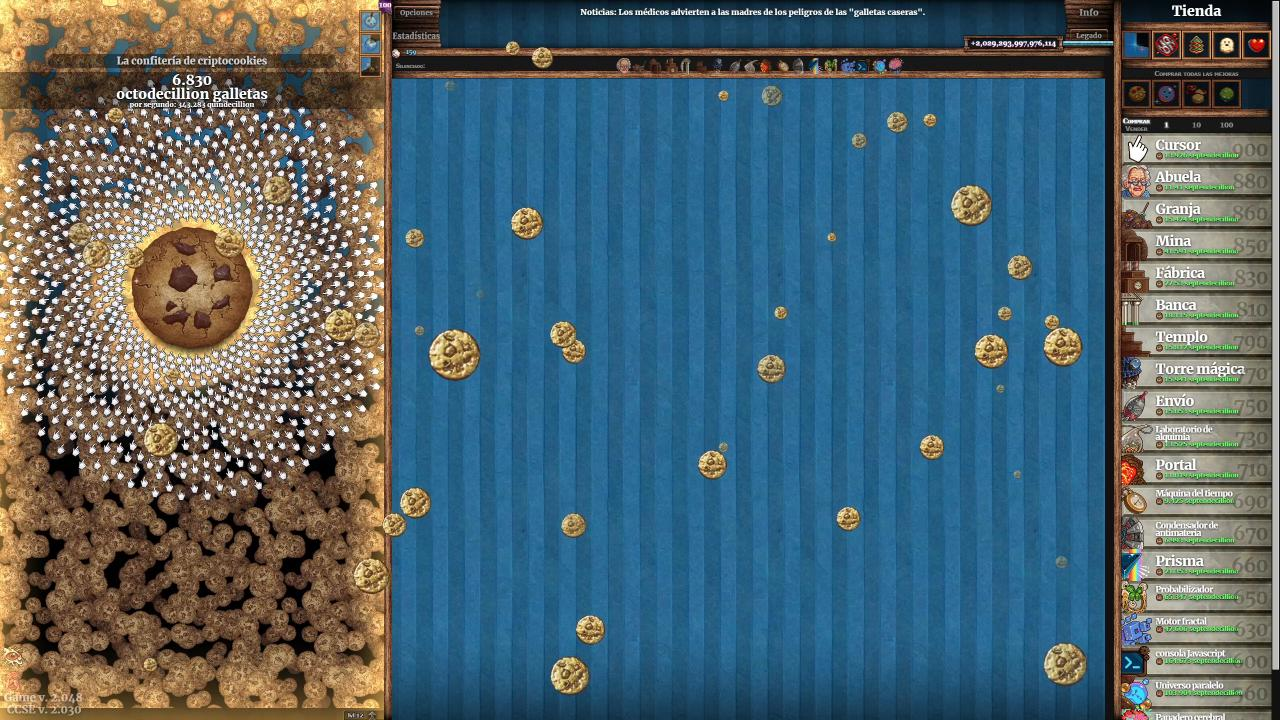GoldenCookie: (427, 328, 483, 383), (1042, 639, 1090, 689), (950, 183, 995, 228), (1042, 325, 1085, 369), (550, 655, 591, 696), (352, 556, 390, 595), (973, 332, 1011, 370), (143, 421, 180, 458), (510, 206, 545, 241), (324, 308, 358, 343), (399, 486, 432, 520), (213, 226, 247, 259), (756, 351, 788, 386), (696, 449, 729, 482), (574, 613, 606, 647), (262, 175, 294, 206), (548, 319, 580, 349), (82, 240, 111, 270), (918, 433, 947, 462), (560, 337, 589, 366), (1006, 252, 1034, 282), (560, 511, 588, 540), (381, 511, 408, 540), (835, 505, 862, 534), (354, 320, 381, 348), (760, 84, 785, 110), (885, 109, 910, 135), (68, 221, 92, 247), (122, 246, 146, 270), (531, 46, 554, 71), (404, 227, 426, 250), (850, 130, 870, 150), (996, 304, 1015, 323), (107, 106, 125, 124), (772, 303, 790, 321), (505, 39, 522, 57), (922, 111, 939, 129), (1043, 314, 1062, 329), (717, 88, 731, 104)
